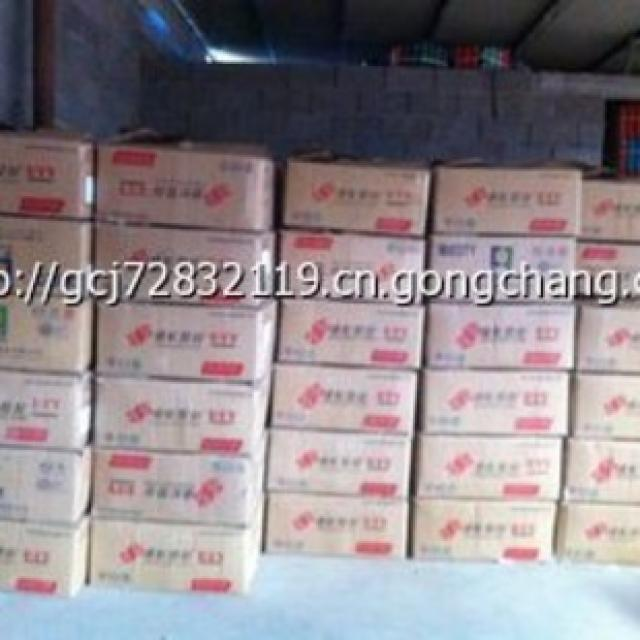box: (89, 491, 266, 595), (91, 429, 266, 529), (93, 142, 285, 233), (91, 219, 281, 306), (93, 365, 273, 456), (93, 295, 277, 384), (277, 161, 431, 235), (417, 367, 576, 438), (279, 231, 429, 306), (431, 165, 584, 237), (268, 363, 423, 434), (277, 297, 425, 370), (425, 301, 576, 372), (421, 235, 578, 303), (264, 429, 417, 498), (415, 436, 568, 502), (262, 493, 413, 559), (409, 498, 557, 564), (0, 132, 99, 219), (0, 506, 91, 597), (0, 436, 91, 524), (0, 217, 97, 295), (0, 374, 97, 452), (0, 295, 95, 374), (555, 502, 640, 568), (559, 440, 640, 504), (576, 299, 640, 374), (570, 372, 640, 440), (582, 180, 640, 244), (580, 244, 640, 303)
